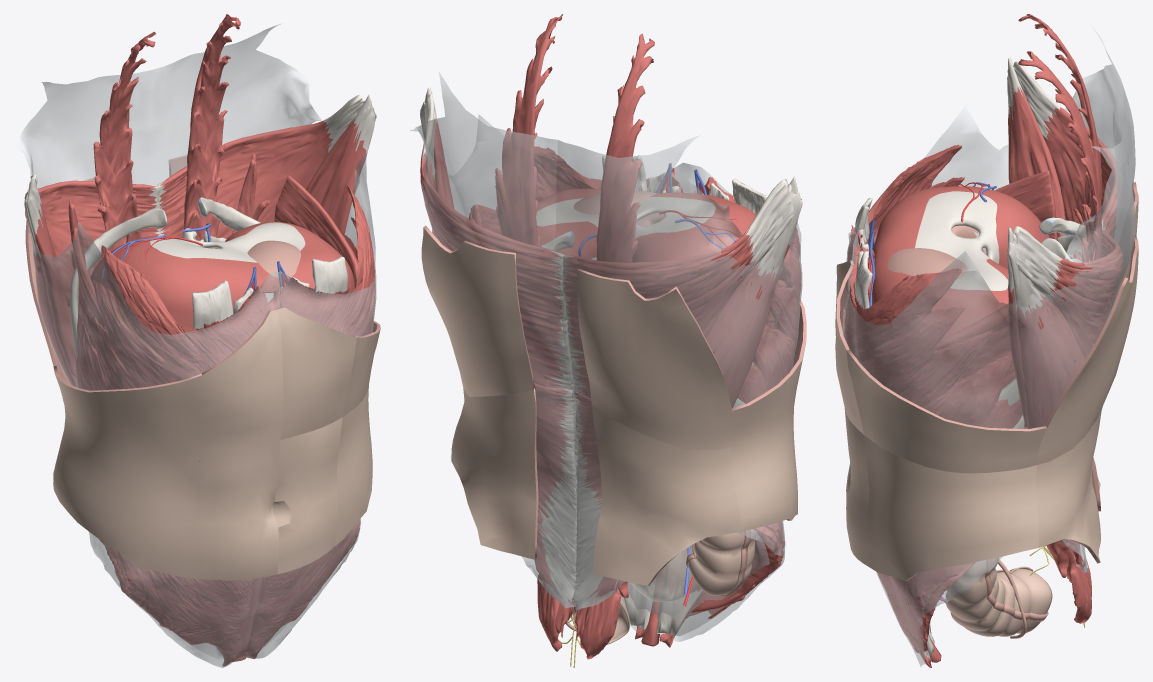
The model's file is abdomen.glb.
The picture shows the model from 3 angles, left to right: view 1: azimuth 30°, elevation 25°; view 2: azimuth 150°, elevation 25°; view 3: azimuth 270°, elevation 25°; orthographic projection. The views are drawn at different scales.
Visible parts, largest first — view 1: investing_abdominal_fascia_r, investing_abdominal_fascia_l, external_abdominal_oblique_muscle_r, lateral_region_of_abdomen_r, latissimus_dorsi_muscle_l, diaphragm, umbilical_region_r, latissimus_dorsi_muscle_r, external_abdominal_oblique_muscle_l, epigastric_region_r, hypochondriac_region_r, umbilical_region_l (+17 smaller); view 2: investing_abdominal_fascia_r, investing_abdominal_fascia_l, latissimus_dorsi_muscle_r, infrascapular_region_r, latissimus_dorsi_muscle_l, lumbar_region_r, infrascapular_region_l, lumbar_region_l, diaphragm, longissimus_thoracis_muscle_r, longissimus_thoracis_muscle_l, lateral_region_of_abdomen_r (+13 smaller); view 3: investing_abdominal_fascia_l, external_abdominal_oblique_muscle_l, lateral_region_of_abdomen_l, latissimus_dorsi_muscle_l, diaphragm, hypochondriac_region_l, latissimus_dorsi_muscle_r, investing_abdominal_fascia_r, infrascapular_region_l, lumbar_region_l, descending_colon, transversus_abdominis_muscle_l (+16 smaller).
Part boxes in pixels (x1,y1,x2,y2): investing_abdominal_fascia_r: [14, 70, 274, 667]; investing_abdominal_fascia_l: [149, 24, 376, 658]; external_abdominal_oblique_muscle_r: [75, 245, 268, 644]; lateral_region_of_abdomen_r: [53, 408, 200, 578]; latissimus_dorsi_muscle_l: [156, 94, 376, 239]; diaphragm: [90, 221, 354, 327]; umbilical_region_r: [199, 440, 280, 580]; latissimus_dorsi_muscle_r: [24, 174, 160, 386]; external_abdominal_oblique_muscle_l: [254, 186, 375, 637]; epigastric_region_r: [199, 309, 283, 451]; hypochondriac_region_r: [53, 366, 202, 452]; umbilical_region_l: [274, 417, 342, 574]; investing_abdominal_fascia_r: [555, 135, 802, 641]; investing_abdominal_fascia_l: [410, 72, 690, 630]; latissimus_dorsi_muscle_r: [562, 176, 802, 605]; infrascapular_region_r: [576, 268, 733, 449]; latissimus_dorsi_muscle_l: [420, 87, 576, 602]; lumbar_region_r: [591, 404, 741, 585]; infrascapular_region_l: [421, 225, 534, 396]; lumbar_region_l: [451, 388, 538, 559]; diaphragm: [536, 188, 756, 262]; longissimus_thoracis_muscle_r: [574, 33, 654, 640]; longissimus_thoracis_muscle_l: [495, 14, 574, 637]; lateral_region_of_abdomen_r: [731, 407, 797, 531]; investing_abdominal_fascia_l: [843, 113, 1135, 667]; external_abdominal_oblique_muscle_l: [844, 246, 1022, 651]; lateral_region_of_abdomen_l: [864, 435, 1038, 581]; latissimus_dorsi_muscle_l: [1007, 226, 1122, 568]; diaphragm: [872, 186, 1049, 338]; hypochondriac_region_l: [846, 349, 1047, 473]; latissimus_dorsi_muscle_r: [1007, 57, 1117, 559]; investing_abdominal_fascia_r: [843, 27, 1135, 567]; infrascapular_region_l: [1037, 235, 1138, 464]; lumbar_region_l: [1035, 407, 1102, 563]; descending_colon: [945, 557, 1052, 636]; transversus_abdominis_muscle_l: [868, 261, 1015, 667].
Bounding box in the file's own units: 0.3692 × 0.6072 × 0.2661.
